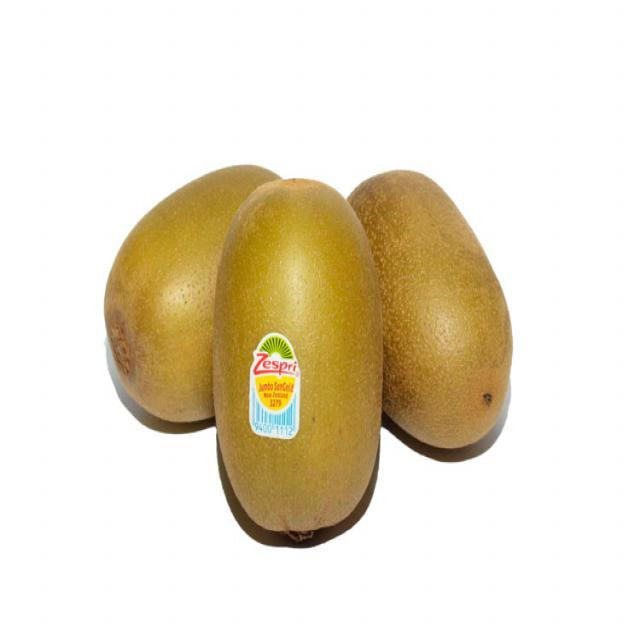kiwi: (218, 178, 383, 551), (103, 164, 294, 437), (368, 169, 516, 456)
